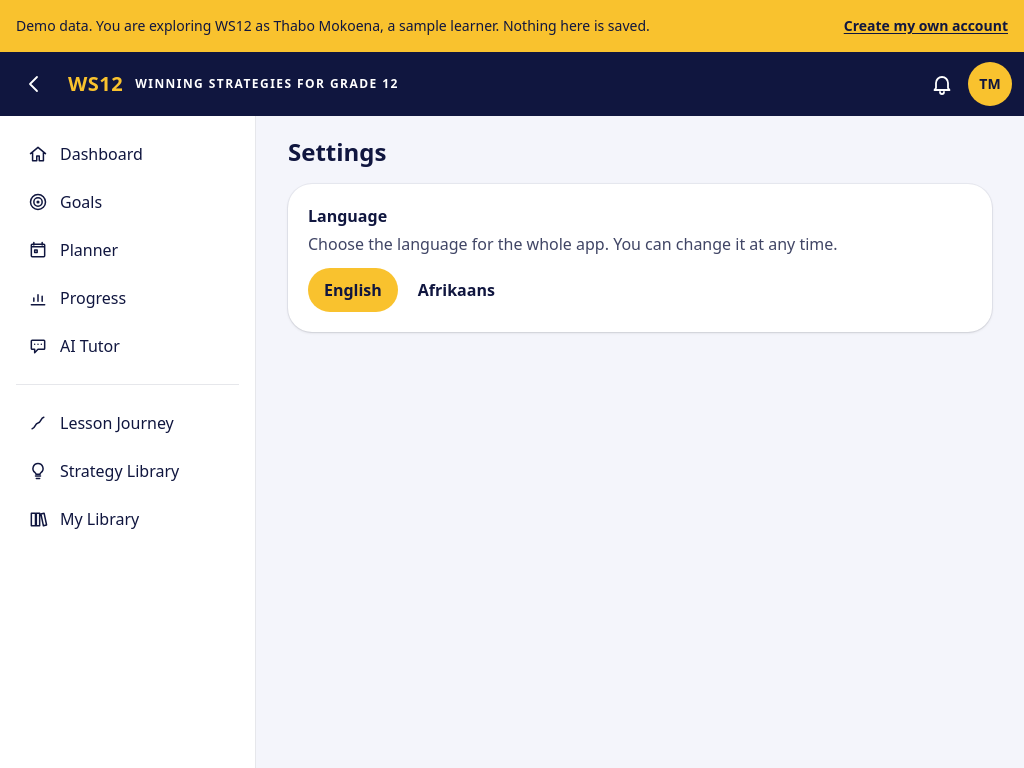
language › switches the whole shell to Afrikaans from Settings and remembers it
Click the button "Afrikaans". click: (456, 290)
box: [402, 268, 511, 312]
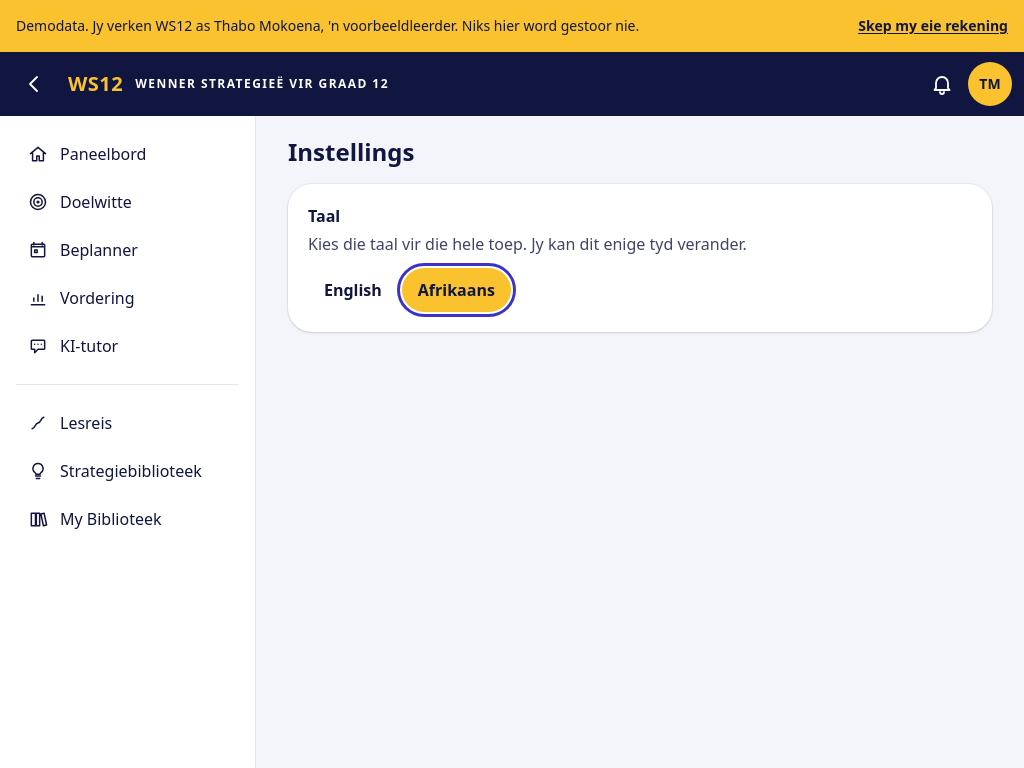
expect the heading "Instellings" is shown: met, box [288, 135, 414, 168]
expect the text "Paneelbord" is shown: met, box [60, 142, 146, 166]
expect the element "Demo" shows "'n voorbeeldleerder": met, box [16, 16, 639, 35]
